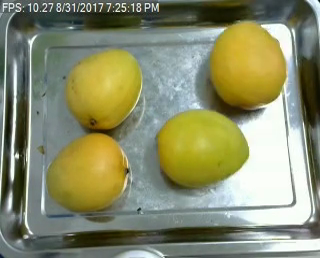Mango: (156, 107, 249, 186), (62, 46, 143, 132), (212, 23, 288, 109), (46, 134, 128, 210)
